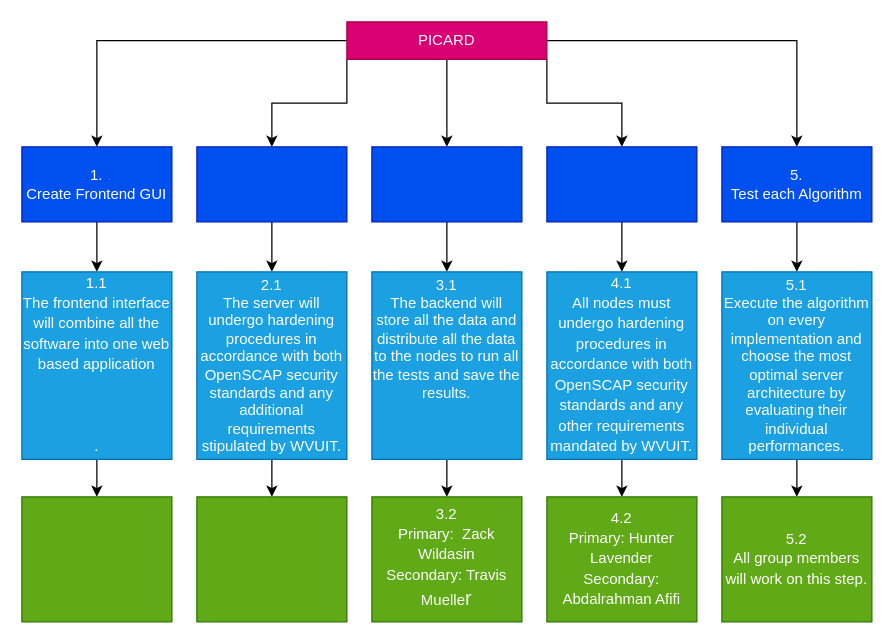
The diagram is 894 pixels wide and 644 high, and some of its shapes have lost their labels. The centre of each missing label's shape, as x and y in pixels:
1.2 Primary: Travis Mueller Secondary: Zack Wildasin: (x=96, y=559)
2. Harden Server: (x=271, y=184)
2.2 Primary: Abdalrahman Afifi Secondary: Hunter Lavender: (x=271, y=559)
3. Create the Backend: (x=446, y=184)
4. Automate Hardening of Each Node: (x=621, y=184)
